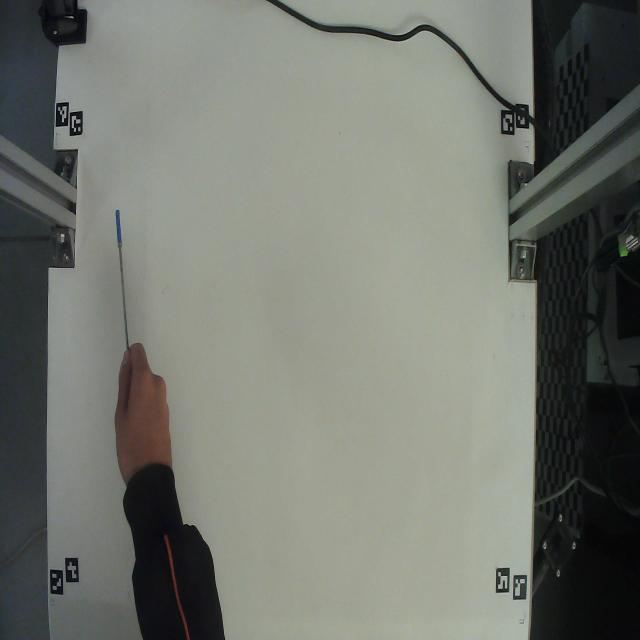NoPres: (104, 202, 134, 355)
